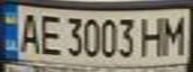0: (81, 15, 103, 60), (100, 16, 121, 58)
3: (60, 14, 84, 58), (115, 15, 139, 58)
A: (15, 10, 42, 54)
E: (36, 10, 63, 56)
H: (136, 14, 169, 57)
M: (160, 11, 190, 56)
